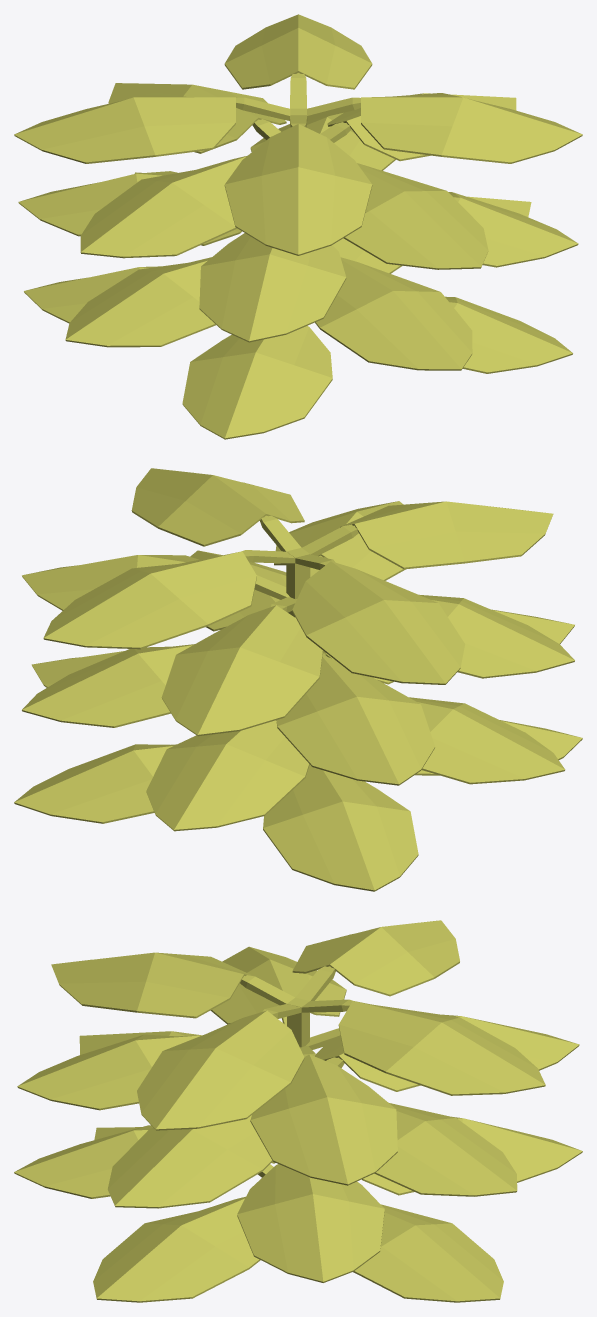
Rendered from Plant_04.fbx.
3 views of the same model, one above another, from view 1: azimuth 30°, elevation 25°; view 2: azimuth 150°, elevation 25°; view 3: azimuth 270°, elevation 25° (orthographic). The views are drawn at different scales.
Visible parts, largest first — view 1: Plant_04; view 2: Plant_04; view 3: Plant_04.
Boxes of the visible parts, x1,y1,x2,y2 form: Plant_04: [14, 14, 582, 439]; Plant_04: [14, 468, 582, 891]; Plant_04: [14, 920, 582, 1302].
Size of the model in its own units: 629 by 318 by 629.
